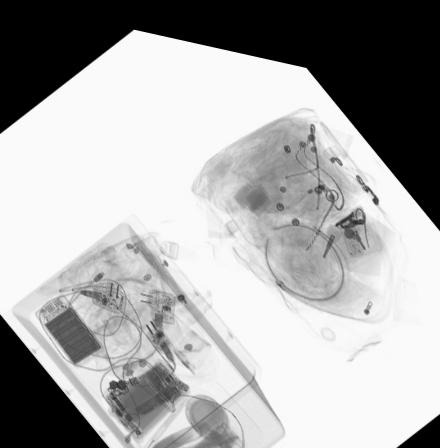Powerbank: (31, 289, 106, 366)
